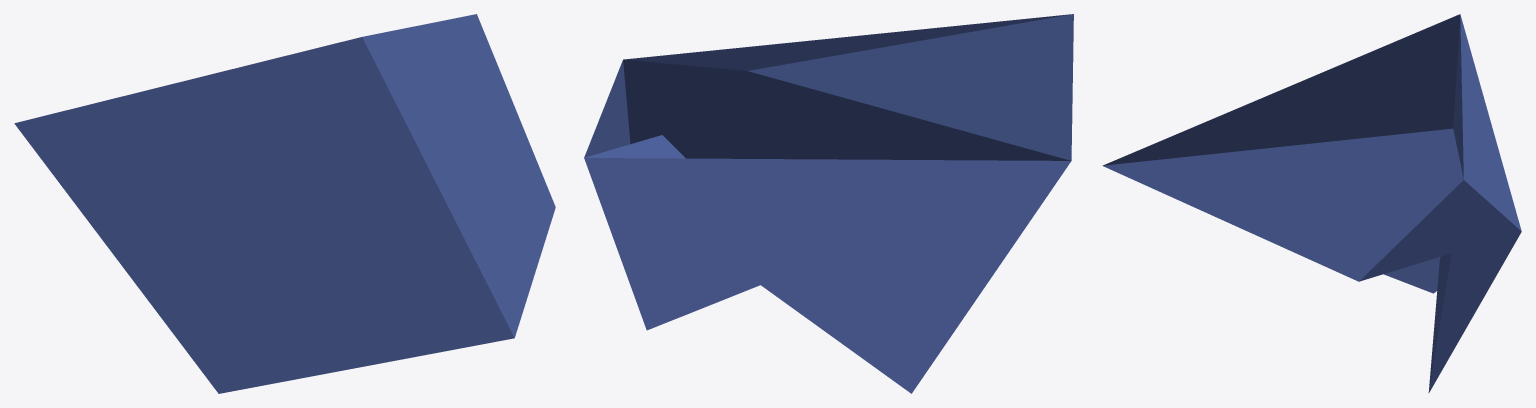
Rendered from minion.glb.
3 renders of one model, left to right at view 1: azimuth 30°, elevation 25°; view 2: azimuth 150°, elevation 25°; view 3: azimuth 270°, elevation 25°, orthographic. The views are drawn at different scales.
Parts seen in each view (by area): view 1: Cube; view 2: Cube; view 3: Cube.
Boxes of the visible parts, bbox=[...] form: Cube: bbox=[14, 14, 555, 393]; Cube: bbox=[584, 14, 1073, 393]; Cube: bbox=[1102, 14, 1521, 393].
Size of the model in its own units: 3.24 by 2.06 by 3.51.
Materials: 1 (1 with a texture image).
